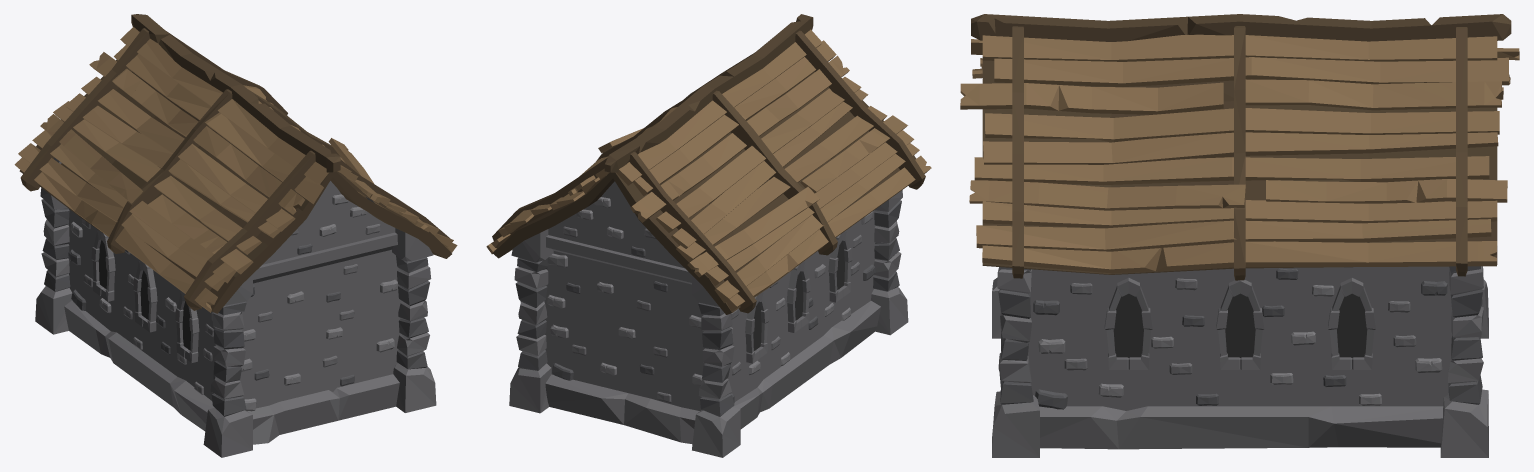
Rendered from SM_Bld_Church_Room_01.glb.
3 renders of one model, left to right at view 1: azimuth 30°, elevation 25°; view 2: azimuth 150°, elevation 25°; view 3: azimuth 270°, elevation 25°, orthographic. The views are drawn at different scales.
Visible parts, largest first — view 1: SM_Bld_Church_Room_01; view 2: SM_Bld_Church_Room_01; view 3: SM_Bld_Church_Room_01.
Boxes of the visible parts, x1=… form: SM_Bld_Church_Room_01: x1=14, y1=14, x2=457, y2=457; SM_Bld_Church_Room_01: x1=486, y1=14, x2=931, y2=457; SM_Bld_Church_Room_01: x1=960, y1=14, x2=1519, y2=457.
Bounding box in the file's own units: 6.42 × 6.4 × 8.75.
1 material, 1 textured.
